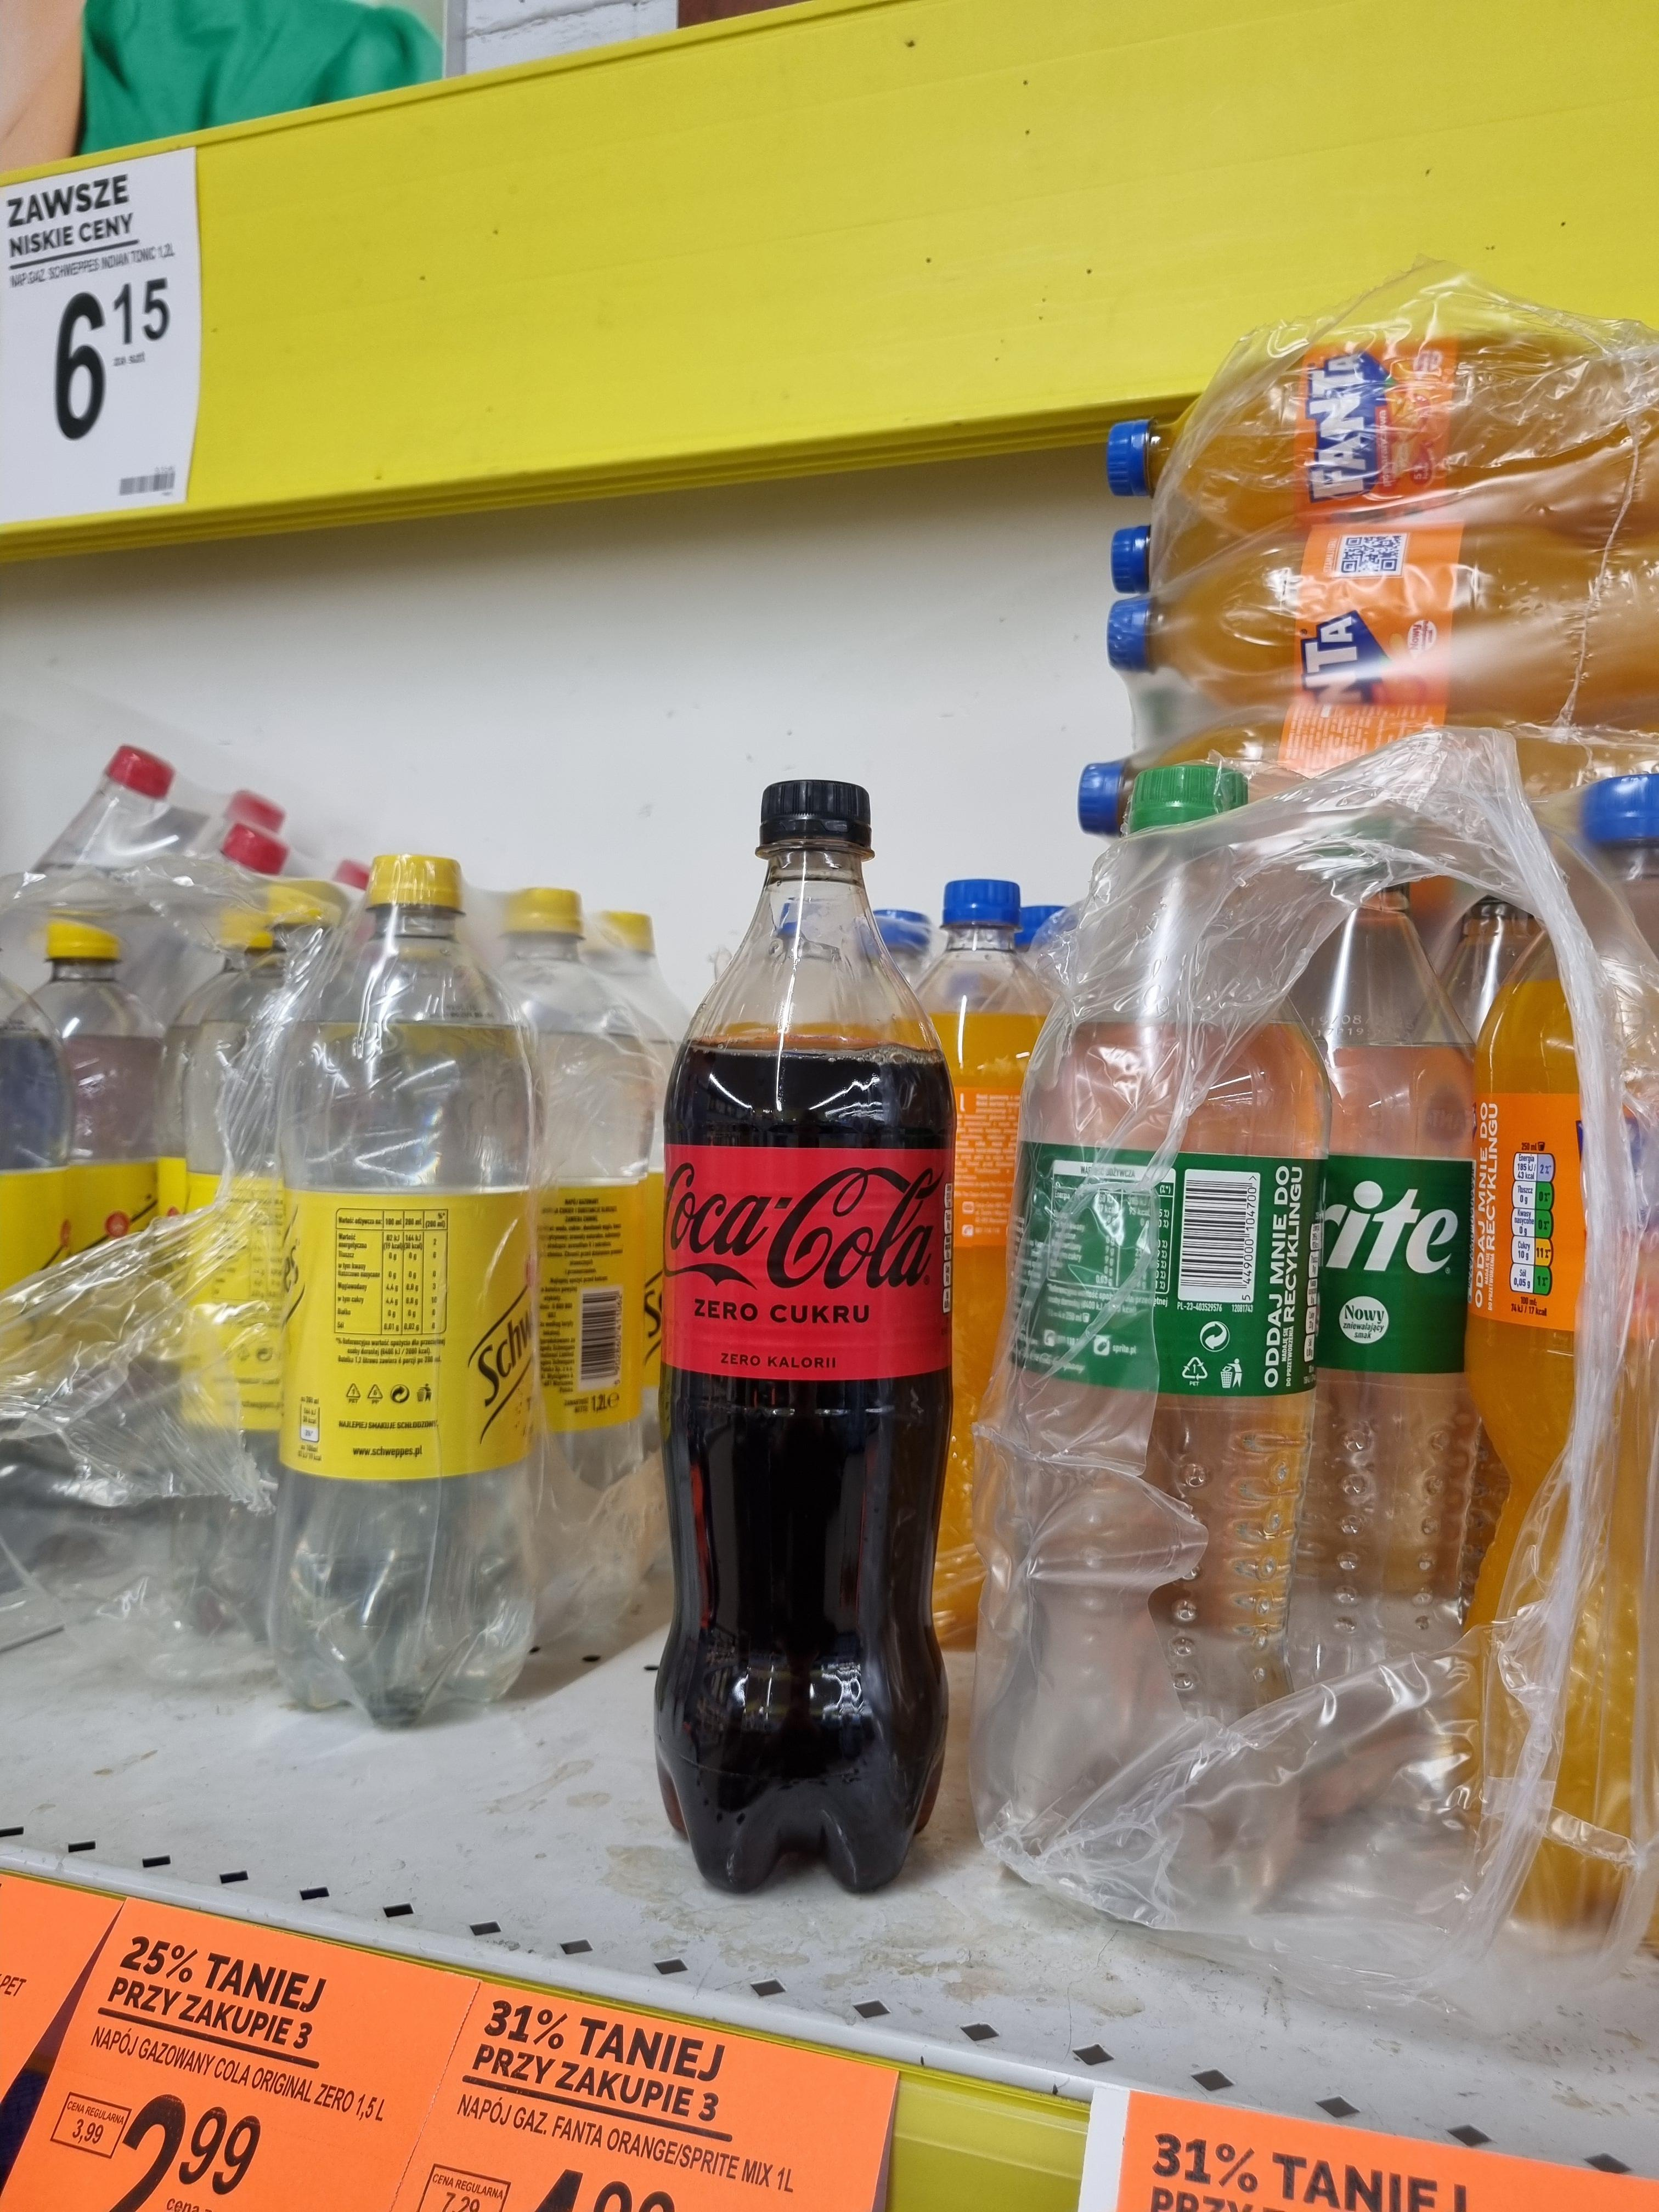Coca Cola: (657, 777, 951, 1897)
